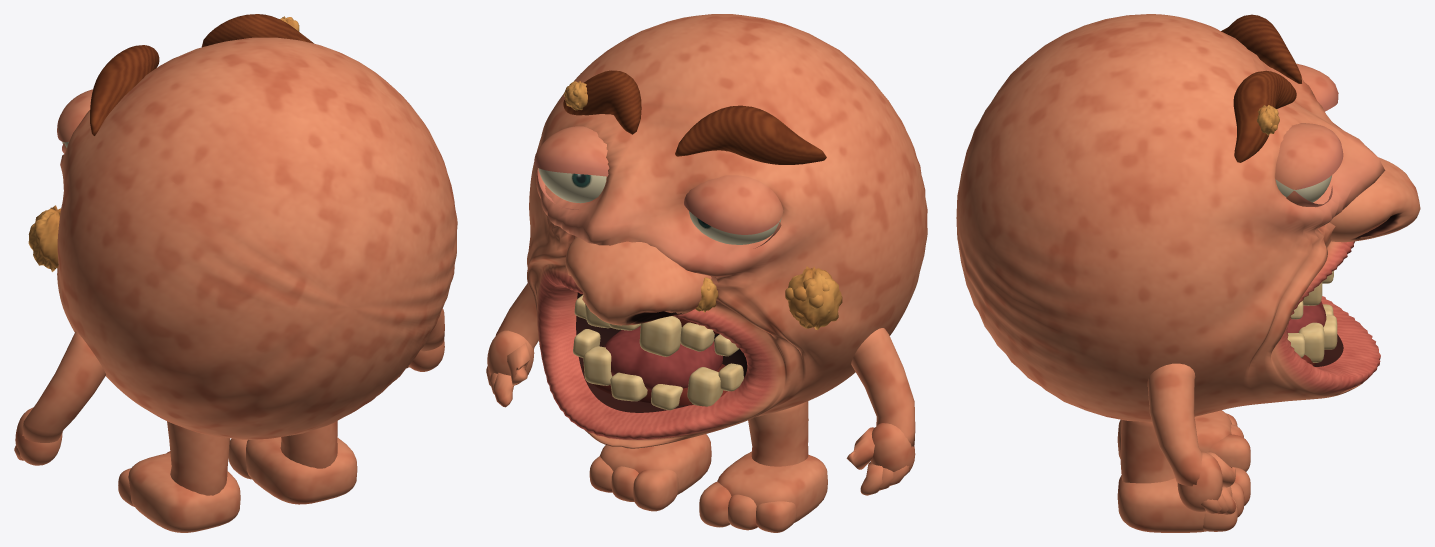
3 views of the same model, side by side, from view 1: azimuth 30°, elevation 25°; view 2: azimuth 150°, elevation 25°; view 3: azimuth 270°, elevation 25° (orthographic).
Bounding box in the file's own units: 0.9698 × 0.9998 × 0.9217.
1 material, 1 textured.
